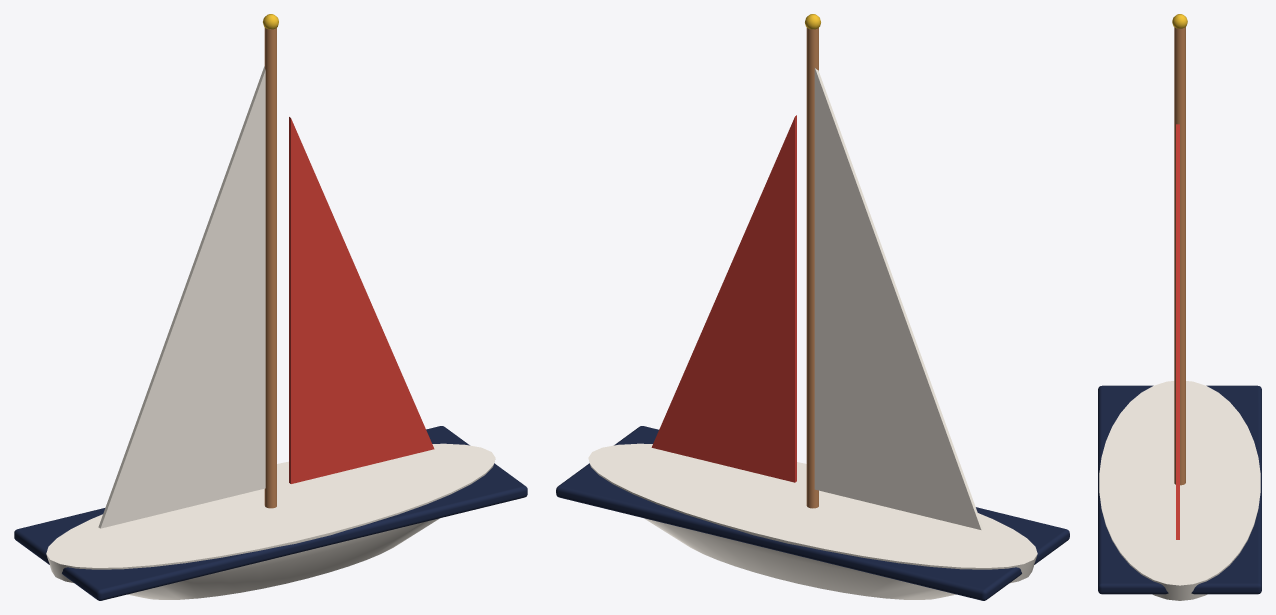
File: sailboat.glb
The picture shows the model from 3 angles, left to right: view 1: azimuth 30°, elevation 25°; view 2: azimuth 150°, elevation 25°; view 3: azimuth 270°, elevation 25°; orthographic projection. The views are drawn at different scales.
Parts seen in each view (by area): view 1: sailboat; view 2: sailboat; view 3: sailboat.
Boxes of the visible parts, left/top/right/bottom form: sailboat: left=14, top=14, right=527, bottom=600; sailboat: left=556, top=14, right=1069, bottom=600; sailboat: left=1098, top=14, right=1261, bottom=600.
Size of the model in its own units: 4.92 by 5.93 by 1.66.
1 material, 1 textured.
